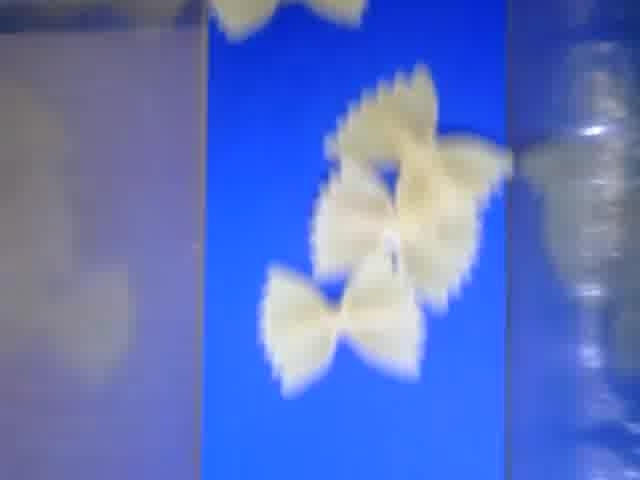farfalle: (319, 66, 514, 208), (310, 164, 475, 314), (259, 265, 427, 393)
